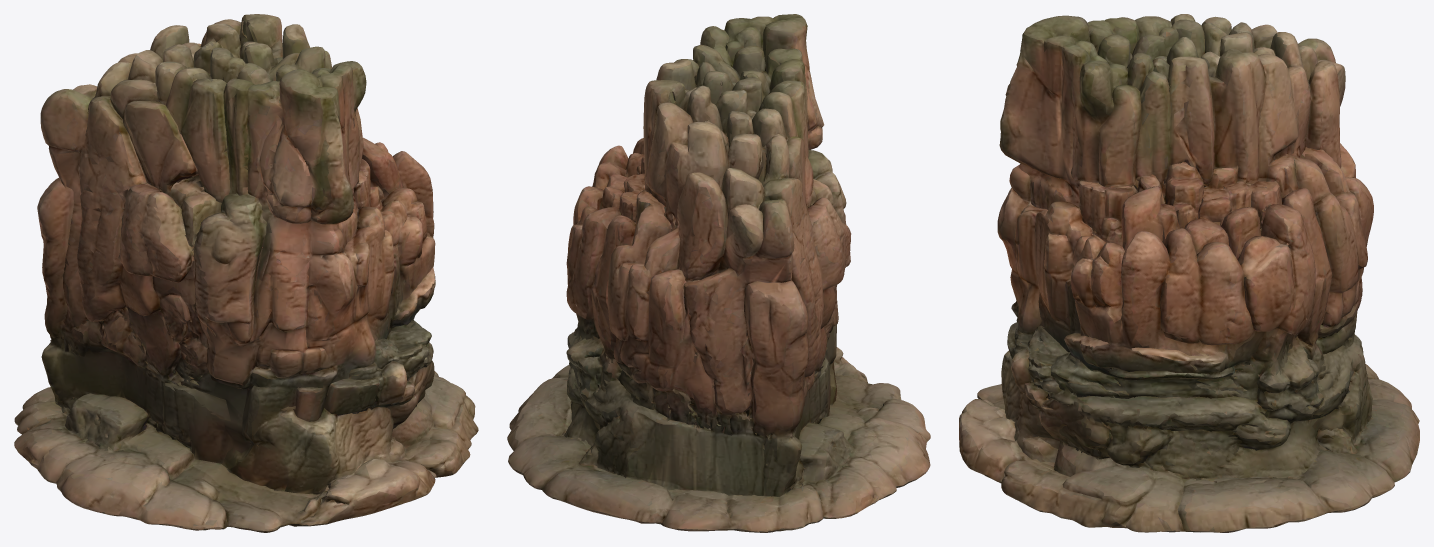
The model's file is layered-slate-v10.glb.
The picture shows the model from 3 angles, left to right: view 1: azimuth 30°, elevation 25°; view 2: azimuth 150°, elevation 25°; view 3: azimuth 270°, elevation 25°; orthographic projection. The views are drawn at different scales.
Parts seen in each view (by area): view 1: geometry_0; view 2: geometry_0; view 3: geometry_0.
Boxes of the visible parts, <box> form: geometry_0: <box>14,14,478,532</box>; geometry_0: <box>507,14,930,532</box>; geometry_0: <box>959,14,1419,532</box>.
Bounding box in the file's own units: 1.5 × 1.5 × 1.49.
Materials: 1 (1 with a texture image).
